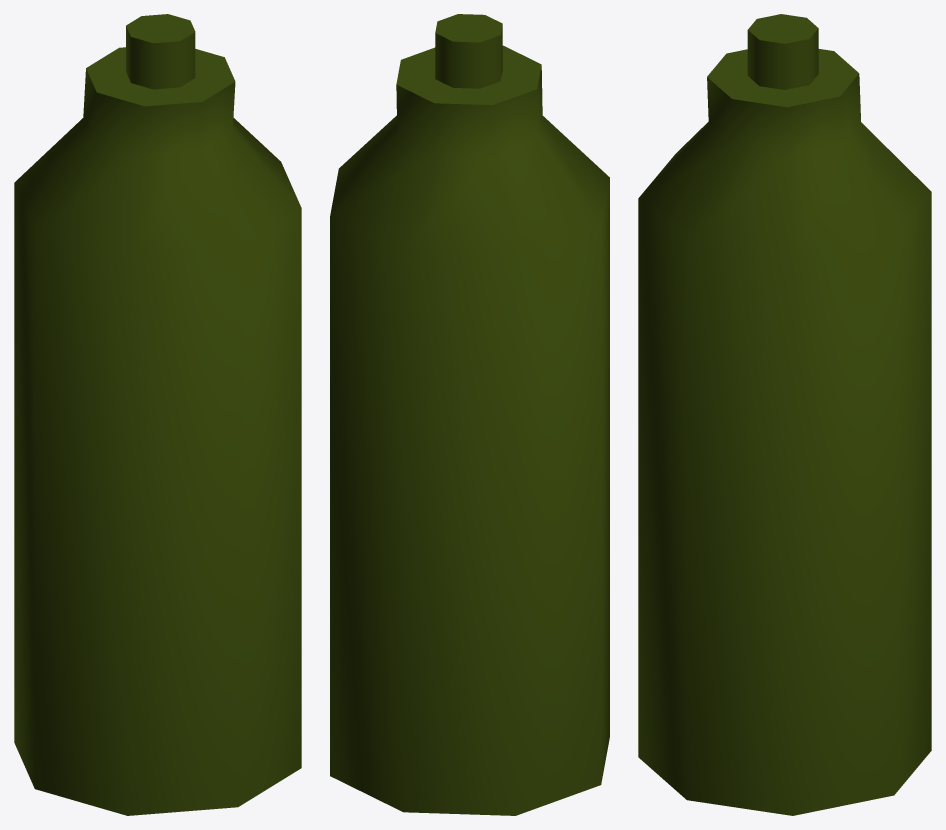
The model's file is Can3_M.fbx.
3 renders of one model, left to right at view 1: azimuth 30°, elevation 25°; view 2: azimuth 150°, elevation 25°; view 3: azimuth 270°, elevation 25°, orthographic.
Parts seen in each view (by area): view 1: Can3; view 2: Can3; view 3: Can3.
Boxes of the visible parts, x1=… form: Can3: x1=14, y1=14, x2=301, y2=815; Can3: x1=330, y1=14, x2=609, y2=815; Can3: x1=638, y1=14, x2=931, y2=815.
Bounding box in the file's own units: 0.0334 × 0.0912 × 0.0334.
